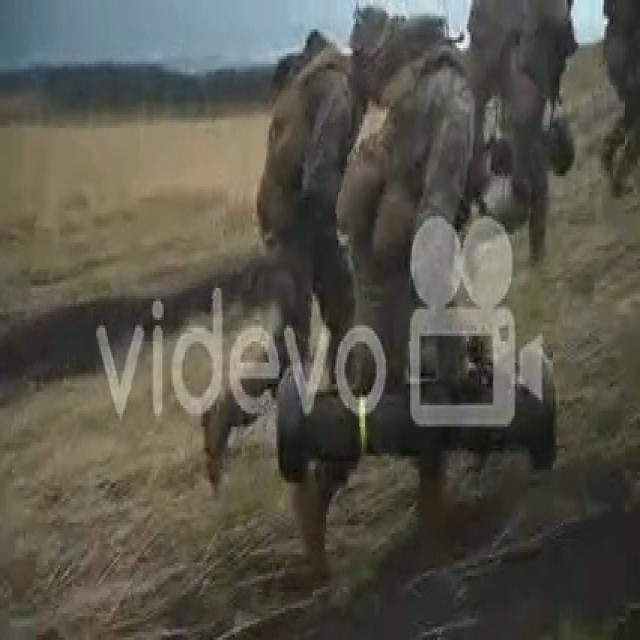bazooka: (279, 337, 566, 490)
